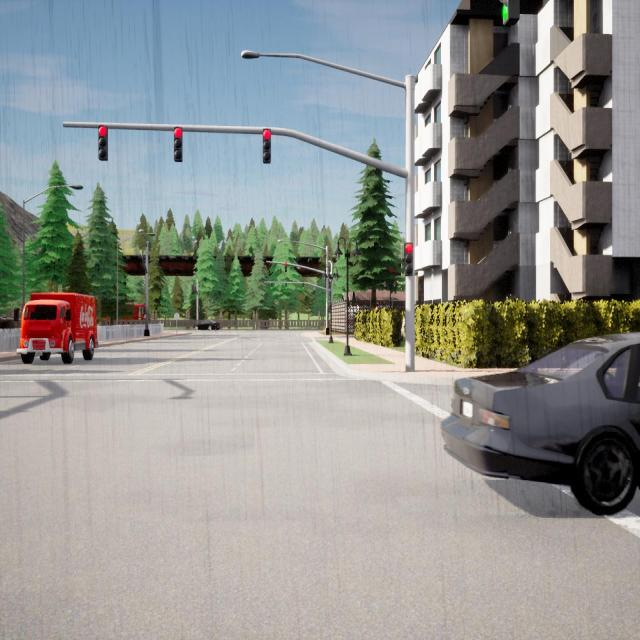Traffic_Signs: (174, 313, 180, 319)
Vehicle: (442, 334, 640, 516), (17, 292, 98, 364), (125, 303, 151, 323), (193, 320, 220, 330)
traffic_light: (498, 0, 521, 25), (404, 242, 414, 278), (173, 127, 183, 163), (98, 125, 108, 161), (262, 128, 272, 162), (285, 262, 287, 272), (271, 282, 273, 290), (285, 282, 287, 290), (192, 286, 194, 294), (302, 283, 304, 289), (198, 306, 200, 312)
